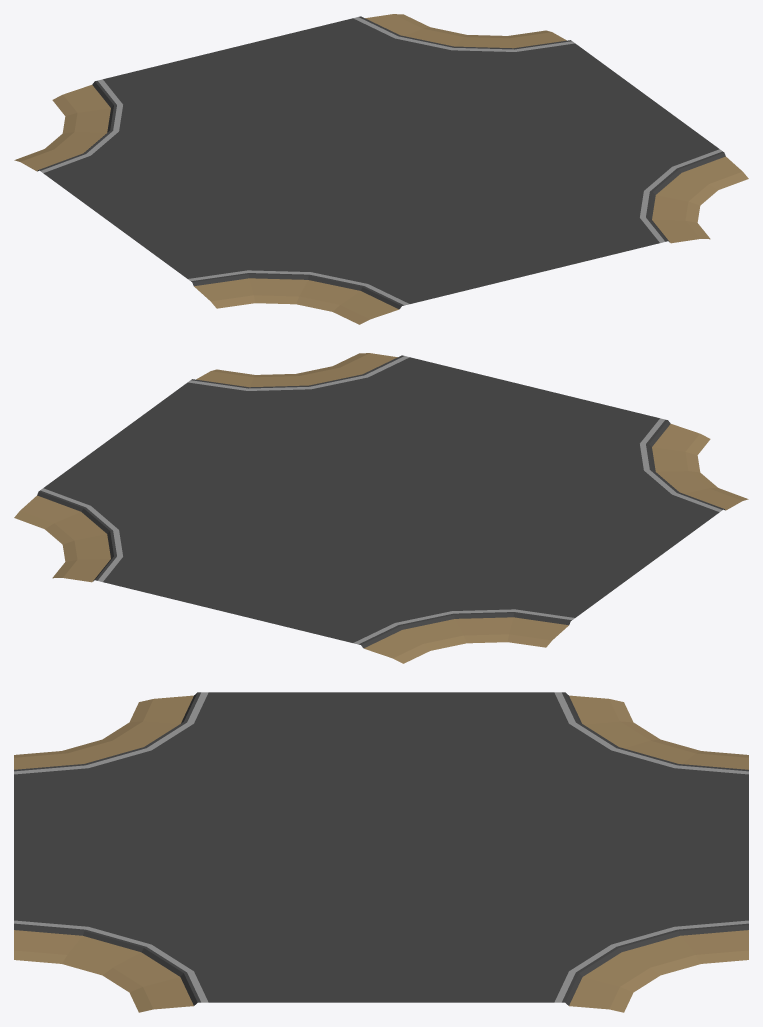
Rendered from SM_Envr_Road_Country_Intersection_02.fbx.
The picture shows the model from 3 angles, top to bottom: view 1: azimuth 30°, elevation 25°; view 2: azimuth 150°, elevation 25°; view 3: azimuth 270°, elevation 25°; orthographic projection. The views are drawn at different scales.
Parts seen in each view (by area): view 1: SM_Envr_Road_Country_Intersection_02; view 2: SM_Envr_Road_Country_Intersection_02; view 3: SM_Envr_Road_Country_Intersection_02.
Part boxes in pixels (bbox=[...]): SM_Envr_Road_Country_Intersection_02: bbox=[14, 14, 748, 324]; SM_Envr_Road_Country_Intersection_02: bbox=[14, 353, 748, 663]; SM_Envr_Road_Country_Intersection_02: bbox=[14, 692, 748, 1012].
Bounding box in the file's own units: 2000 × 30 × 2000.
